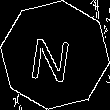N_N: (31, 27, 79, 83)
